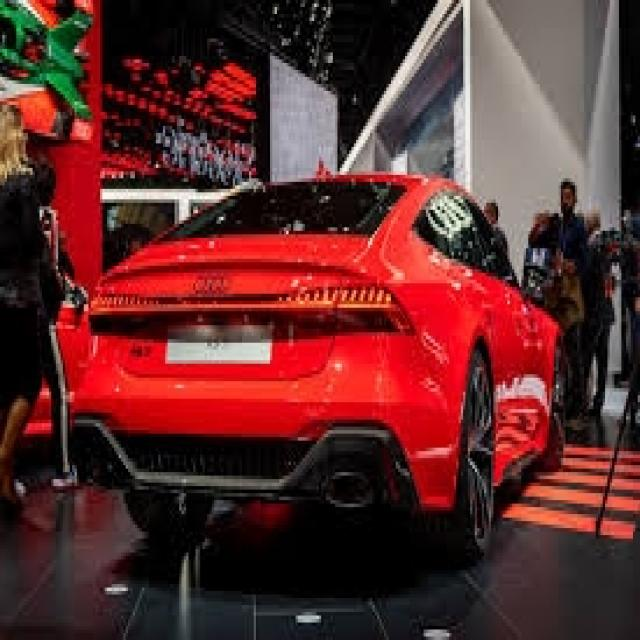red: (81, 169, 572, 530)
